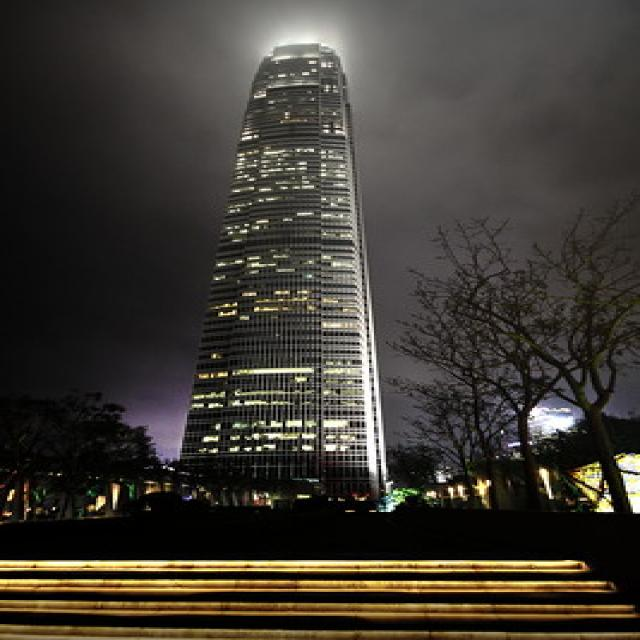Normal_building: (167, 33, 394, 510)
